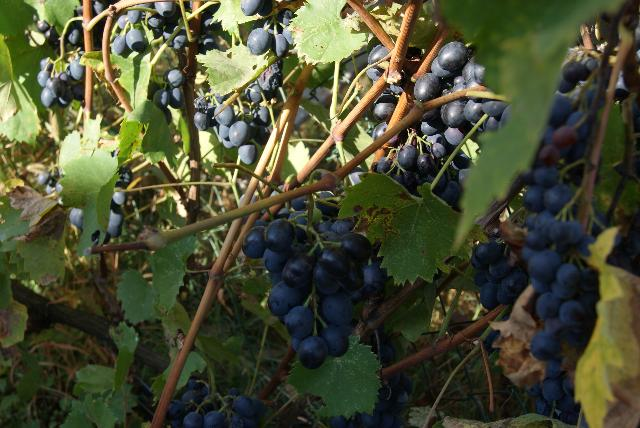grapes: (519, 55, 606, 424), (242, 219, 384, 370), (166, 379, 266, 428), (38, 58, 85, 109)
